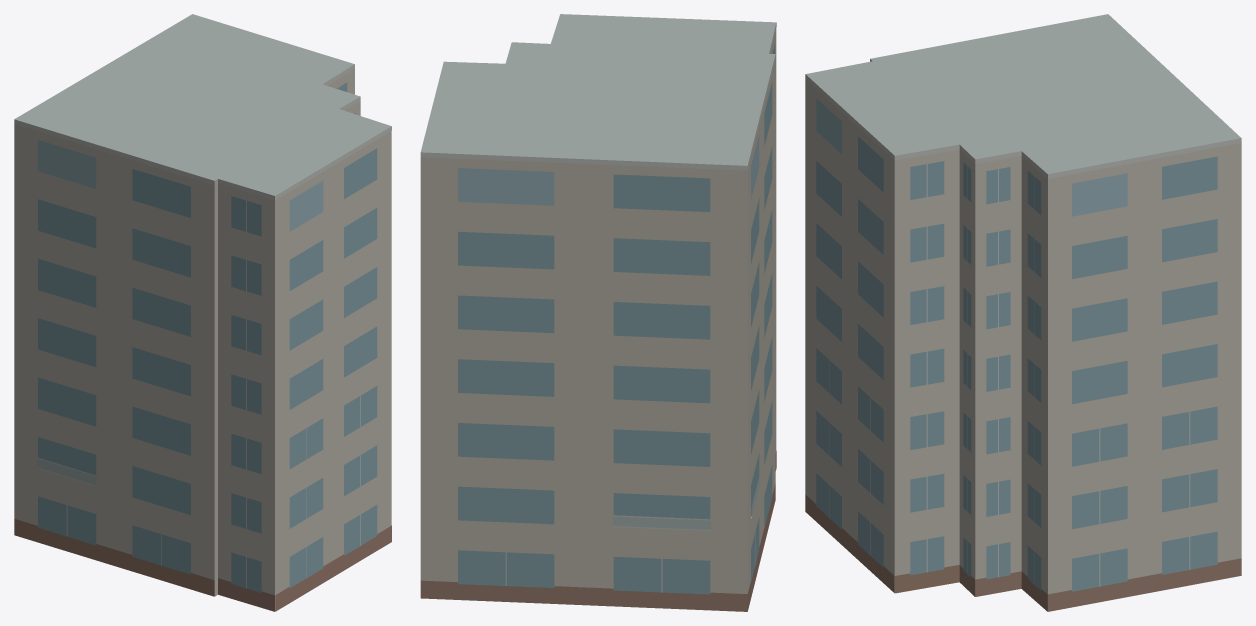
File: survey-upis-32737575.glb
3 renders of one model, left to right at view 1: azimuth 30°, elevation 25°; view 2: azimuth 150°, elevation 25°; view 3: azimuth 270°, elevation 25°, orthographic. The views are drawn at different scales.
Visible parts, largest first — view 1: survey-upis-32737575.tmp; view 2: survey-upis-32737575.tmp; view 3: survey-upis-32737575.tmp.
Boxes of the visible parts, <box> form: survey-upis-32737575.tmp: <box>14,14,391,611</box>; survey-upis-32737575.tmp: <box>420,14,776,611</box>; survey-upis-32737575.tmp: <box>805,14,1241,611</box>.
Bounding box in the file's own units: 17.64 × 22.45 × 20.28.
